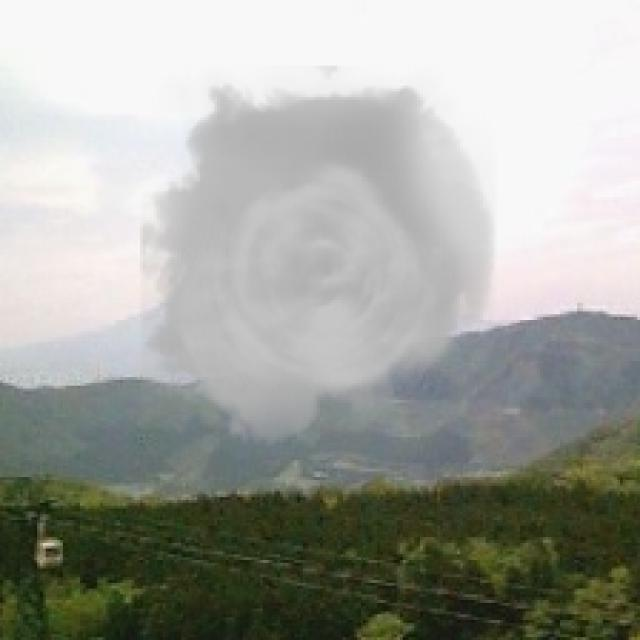Smoke: (140, 66, 497, 457)
